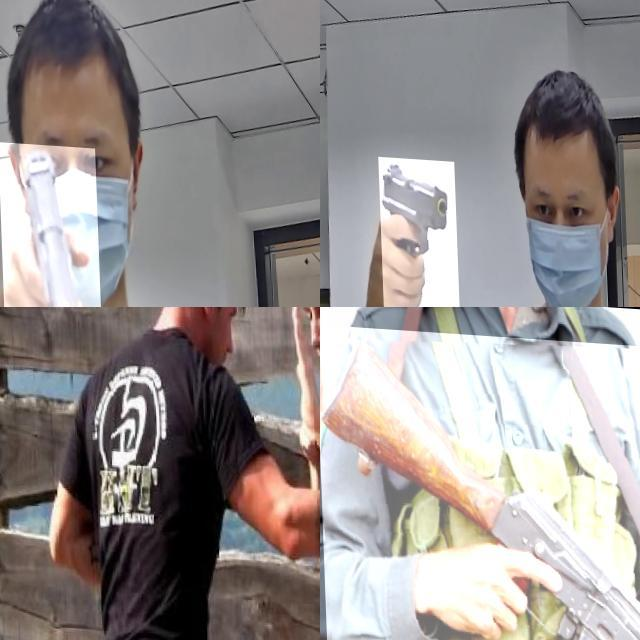gun-knife-thesis - v11 Yolov5 augmented: (320, 324, 640, 640), (0, 138, 99, 307), (375, 153, 456, 307)
